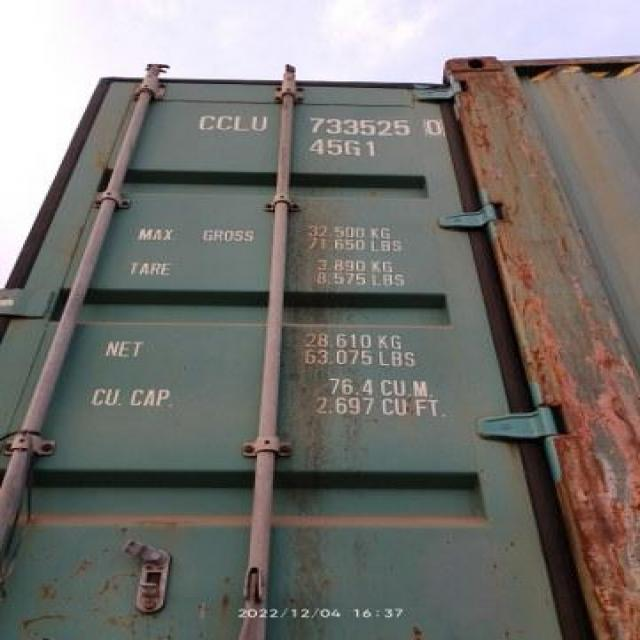ISO: (300, 136, 389, 159)
container_number: (190, 113, 446, 134)
